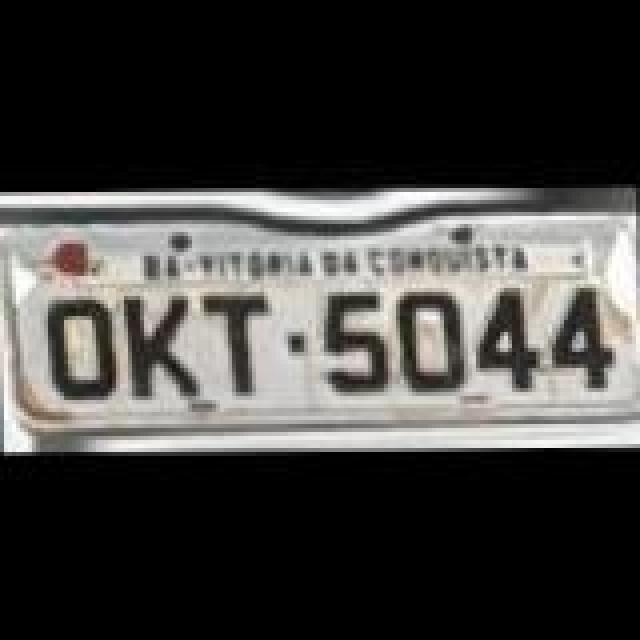4: (472, 282, 544, 394), (548, 284, 620, 396)
5: (318, 290, 386, 394)
K: (120, 292, 200, 400)
O: (42, 296, 118, 400), (398, 288, 466, 392)
T: (202, 294, 278, 402)
